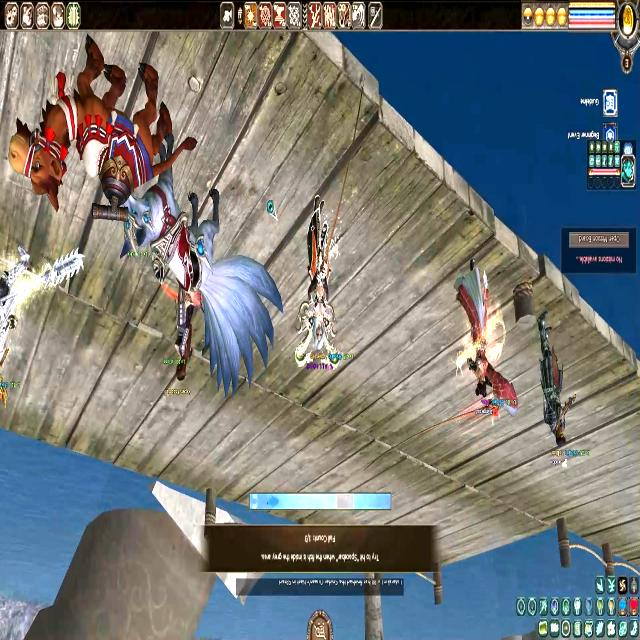fishes: (266, 495, 278, 509)
